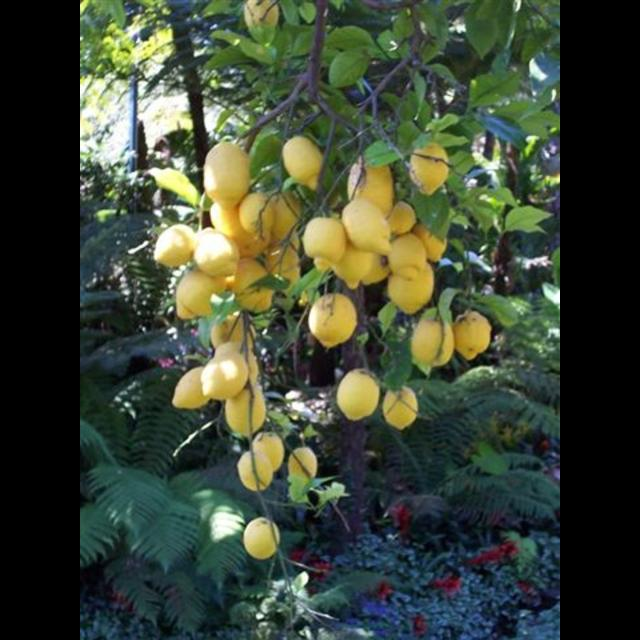Flower: (468, 542, 524, 564), (432, 576, 462, 594), (371, 581, 393, 601), (392, 504, 406, 530), (312, 556, 326, 578), (517, 579, 529, 593), (290, 550, 302, 562), (415, 612, 421, 636)
